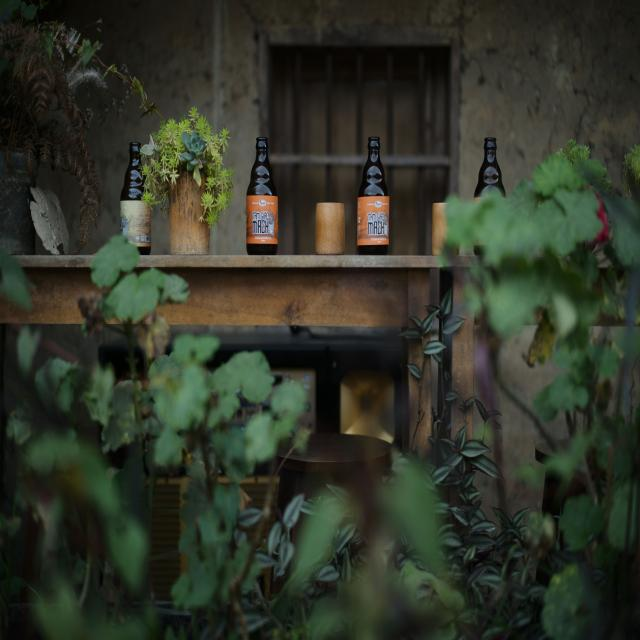Bottle: (357, 137, 389, 255), (247, 137, 278, 255), (121, 143, 151, 255), (475, 138, 505, 198)
